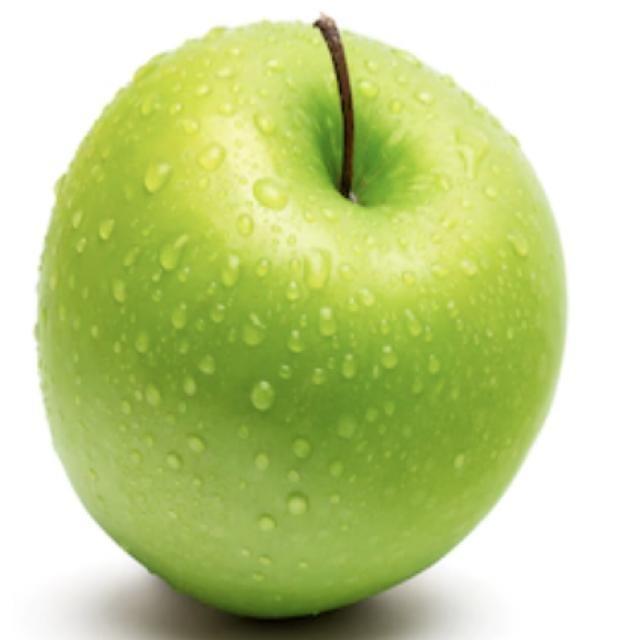Fresh Apple: (63, 30, 565, 605)
